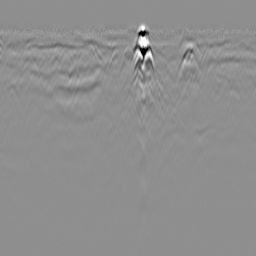cavity: (118, 45, 135, 73)
